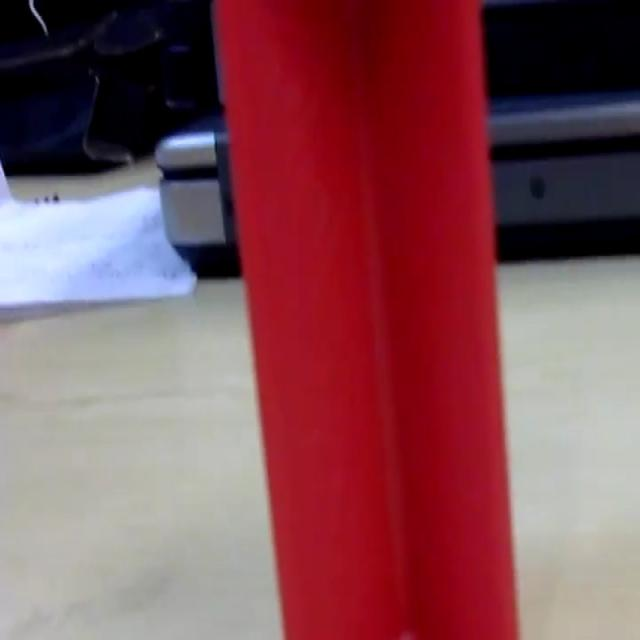red_block: (211, 0, 521, 636)
